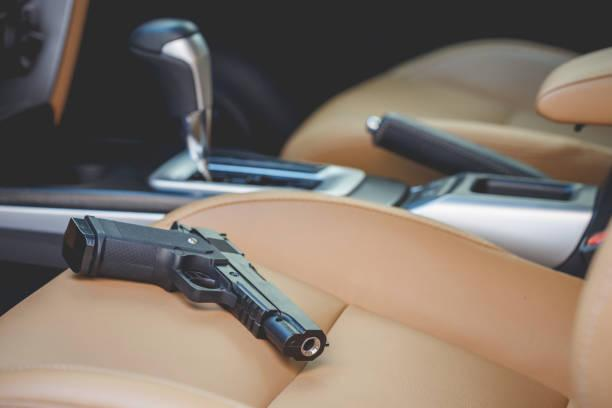weapon: (58, 212, 332, 365)
